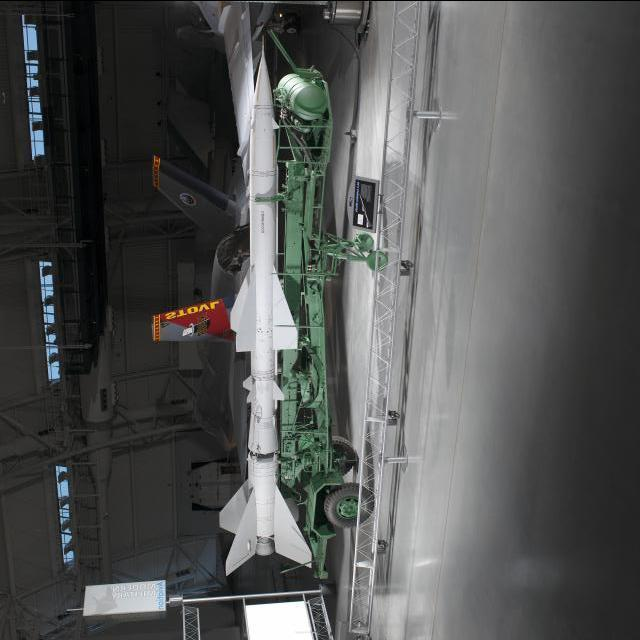missile: (216, 26, 317, 590)
